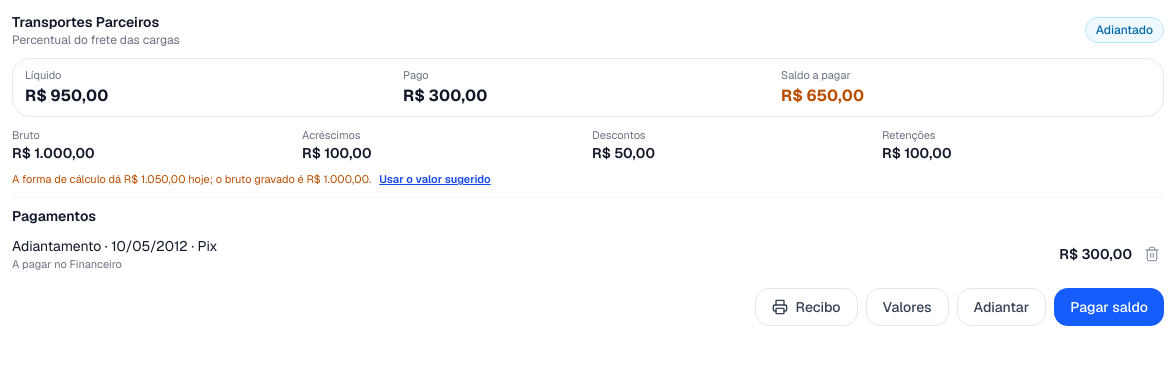
it: aba Frete da viagem › pagar o saldo já vem com o que falta; a confirmação pedida pela rota é perguntada e o pedido vai de novo com ela
The width and height of the screenshot is (1176, 391).
Click the button "Pagar saldo".
click(1109, 307)  # box [1054,288,1164,326]
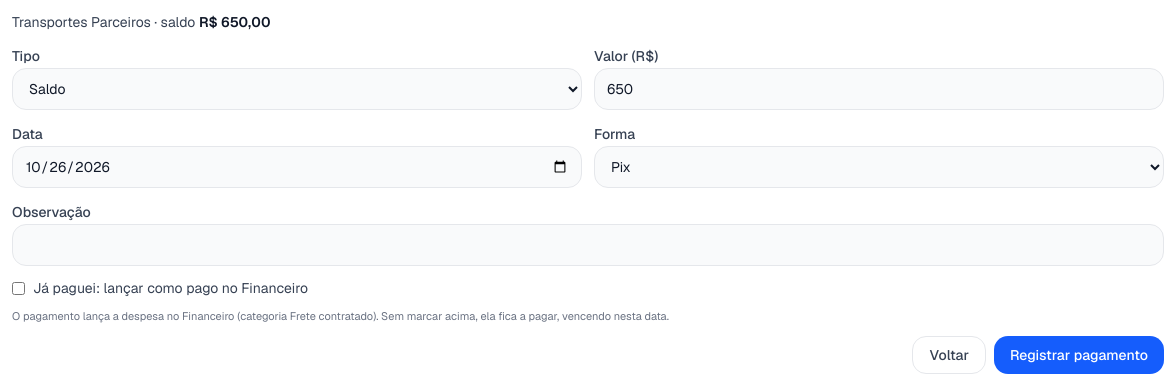
Expected: the form is shown
Submit the form
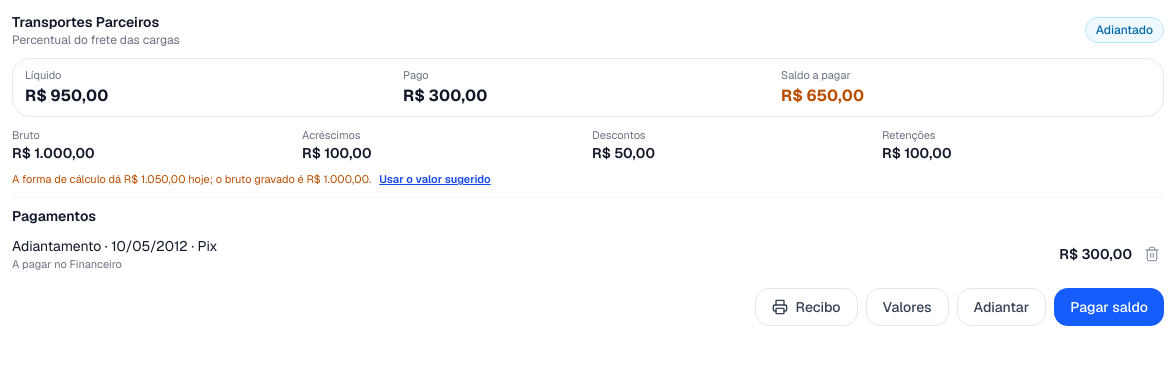
Expected: the element that starts with "Transportes Parceiros" is shown
